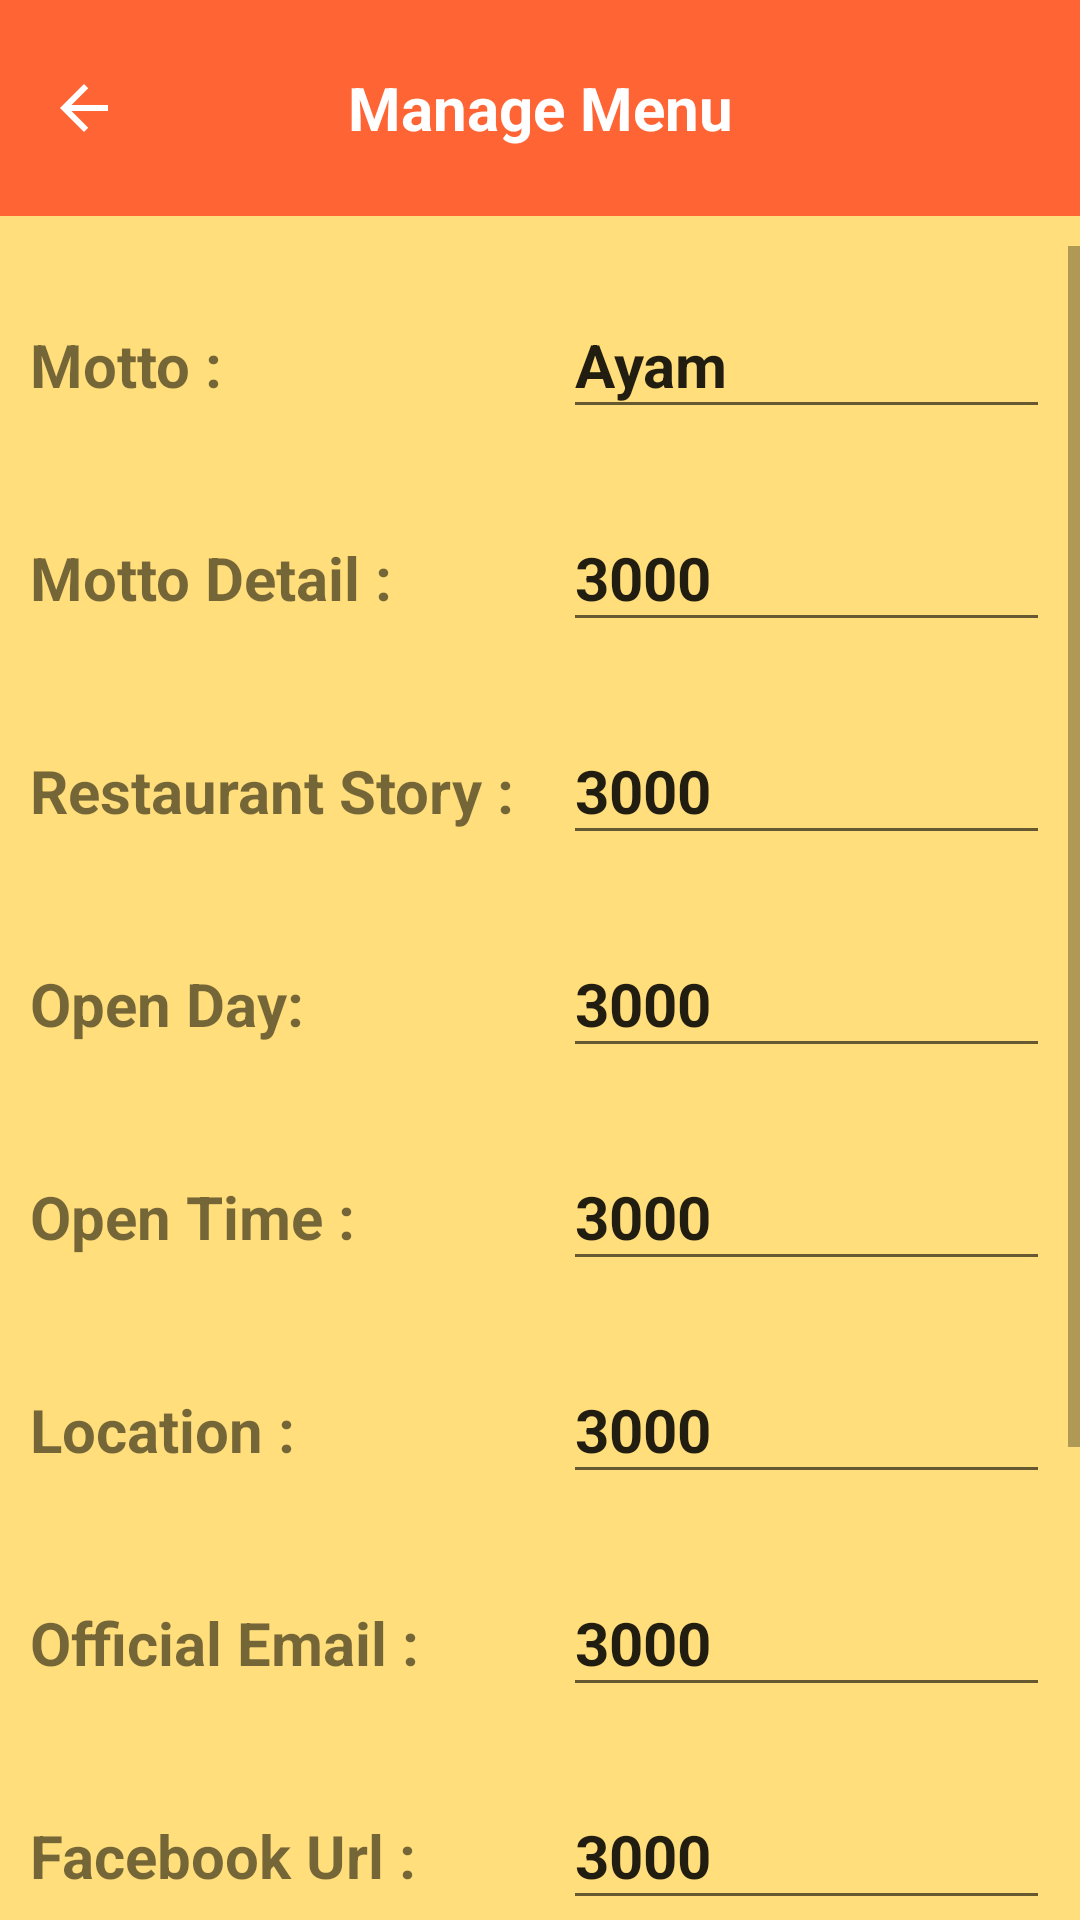

Named icons in this screenshot (1080*1920) and their bounding boxes, BBox(x1, y1, x2, y2):
Back: BBox(60, 84, 108, 132)
